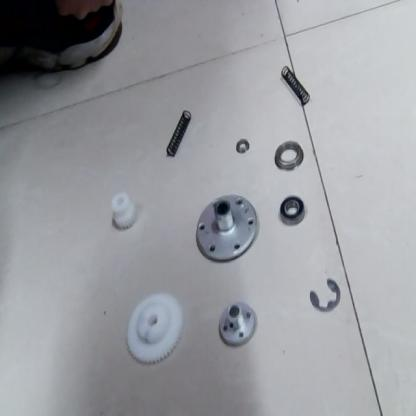FOD: (192, 192, 260, 266), (125, 293, 188, 367), (215, 300, 261, 351), (280, 63, 312, 109), (166, 106, 192, 160), (310, 274, 341, 318), (270, 140, 307, 174), (276, 192, 307, 227), (111, 190, 135, 234), (235, 136, 251, 158)
